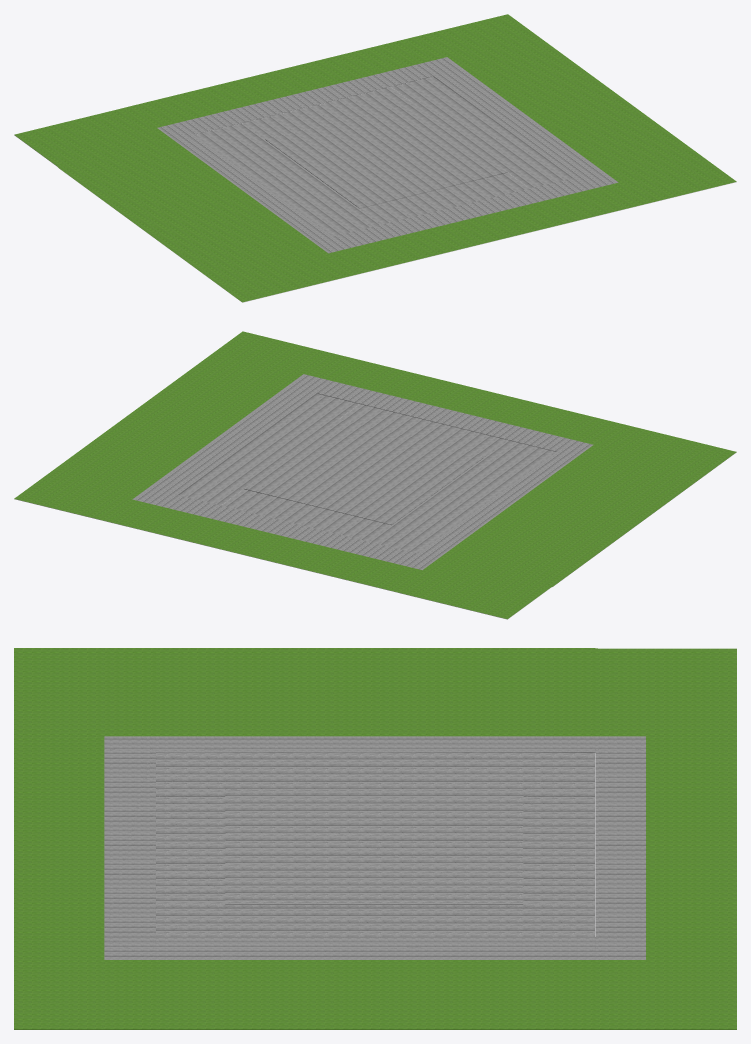
The model's file is Calle.obj.
3 renders of one model, top to bottom at view 1: azimuth 30°, elevation 25°; view 2: azimuth 150°, elevation 25°; view 3: azimuth 270°, elevation 25°, orthographic. The views are drawn at different scales.
Bounding box in the file's own units: 8214 × 8.34 × 6586.
5 materials, 5 textured.
